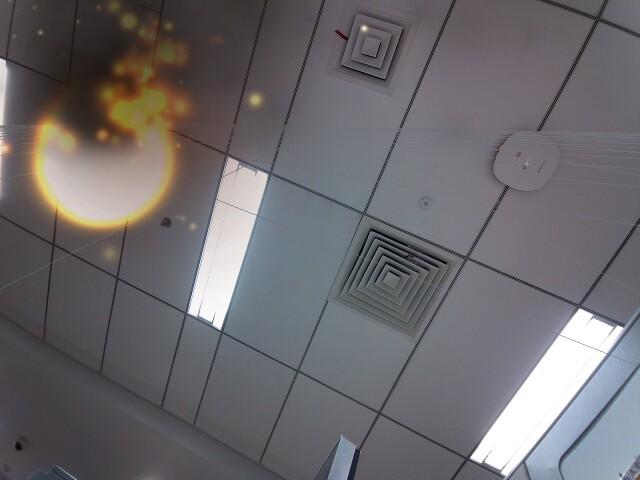fire: (34, 88, 179, 240)
